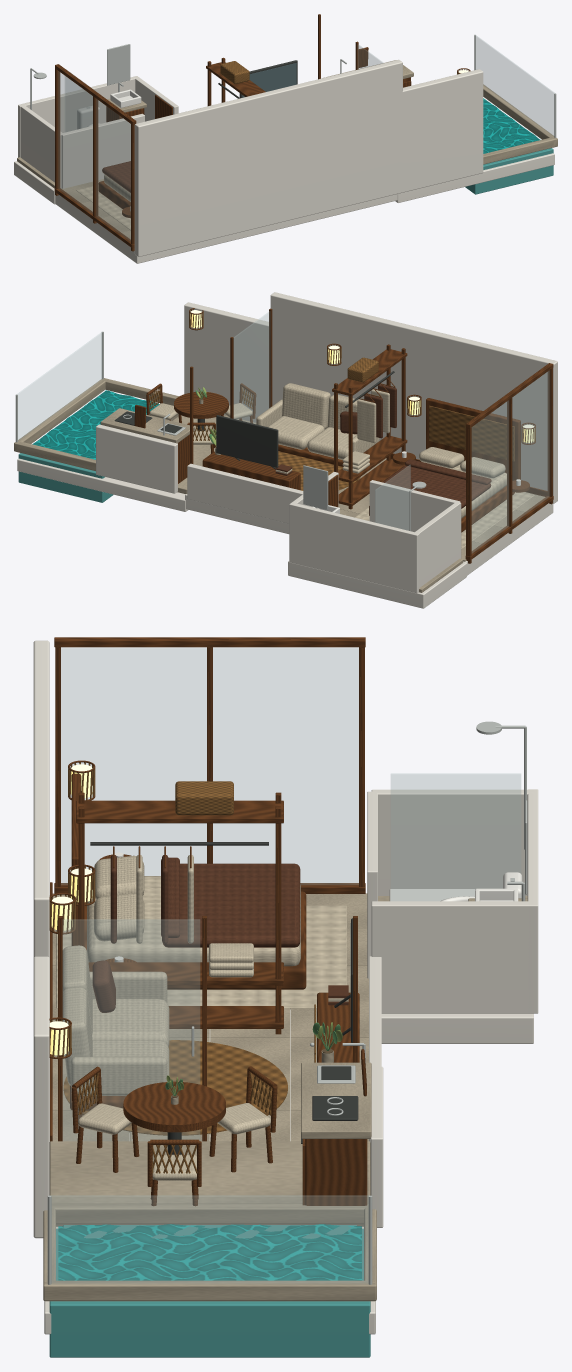
File: sopro-superior-detalhado.glb
3 views of the same model, one above another, from view 1: azimuth 30°, elevation 25°; view 2: azimuth 150°, elevation 25°; view 3: azimuth 270°, elevation 25° (orthographic). The views are drawn at different scales.
Parts seen in each view (by area): view 1: 00 Cutaway architecture | INT / Warm plaster.001, 06 Bathroom fixtures | INT / Warm plaster.001, 00 Cutaway architecture | INT / Clear glass.001, 08 Pool basin and water | INT / Clear glass, 00 Cutaway architecture | INT / Natural timber.001, 08 Pool basin and water | INT / Limestone.002, 08 Pool basin and water | INT / Water surface.001, 08 Pool basin and water | INT / Turquoise pool tile.001, 06 Bathroom fixtures | INT / Clear glass.001, 06 Bathroom fixtures | INT / Brushed steel.001, 04 Media and decorative objects | INT / Screen reflection.00, 01 Bedroom and linen | INT / Natural linen.001 (+9 smaller); view 2: 00 Cutaway architecture | INT / Warm plaster.001, 06 Bathroom fixtures | INT / Warm plaster.001, 00 Cutaway architecture | INT / Clear glass.001, 03 Living furniture | INT / Natural linen.001, 02 Open closet | INT / Natural timber.001, 07 Gourmet veranda | INT / Warm plaster.001, 08 Pool basin and water | INT / Clear glass, 00 Cutaway architecture | INT / Natural timber.001, 05 Glass partition | INT / Clear glass.001, 01 Bedroom and linen | INT / Woven cane.001, 08 Pool basin and water | INT / Water surface.001, 01 Bedroom and linen | INT / Natural linen.001 (+20 smaller); view 3: 00 Cutaway architecture | INT / Clear glass.001, 06 Bathroom fixtures | INT / Warm plaster.001, 08 Pool basin and water | INT / Clear glass, 05 Glass partition | INT / Clear glass.001, 08 Pool basin and water | INT / Turquoise pool tile.001, 07 Gourmet veranda | INT / Limestone.002, 00 Cutaway architecture | INT / Warm plaster.001, 08 Pool basin and water | INT / Water surface.001, 06 Bathroom fixtures | INT / Clear glass.001, 08 Pool basin and water | INT / Limestone.002, 01 Bedroom and linen | INT / Natural linen.001, 07 Gourmet veranda | INT / Natural timber.001 (+21 smaller).
Part boxes in pixels (x1,y1,x2,y2): 00 Cutaway architecture | INT / Warm plaster.001: (14,59,554,263); 06 Bathroom fixtures | INT / Warm plaster.001: (18,76,178,188); 00 Cutaway architecture | INT / Clear glass.001: (58,71,130,241); 08 Pool basin and water | INT / Clear glass: (475,35,554,136); 00 Cutaway architecture | INT / Natural timber.001: (54,64,136,251); 08 Pool basin and water | INT / Limestone.002: (483,84,557,164); 08 Pool basin and water | INT / Water surface.001: (483,98,539,153); 08 Pool basin and water | INT / Turquoise pool tile.001: (465,98,553,194); 06 Bathroom fixtures | INT / Clear glass.001: (65,69,97,131); 06 Bathroom fixtures | INT / Brushed steel.001: (30,44,130,109); 04 Media and decorative objects | INT / Screen reflection.00: (242,63,296,97); 01 Bedroom and linen | INT / Natural linen.001: (76,174,130,230); 00 Cutaway architecture | INT / Warm plaster.001: (17,292,557,608); 06 Bathroom fixtures | INT / Warm plaster.001: (289,472,461,593); 00 Cutaway architecture | INT / Clear glass.001: (472,371,549,552); 03 Living furniture | INT / Natural linen.001: (256,383,379,459); 02 Open closet | INT / Natural timber.001: (332,344,407,509); 07 Gourmet veranda | INT / Warm plaster.001: (96,424,177,493); 08 Pool basin and water | INT / Clear glass: (17,332,102,440); 00 Cutaway architecture | INT / Natural timber.001: (390,363,553,563); 05 Glass partition | INT / Clear glass.001: (234,311,269,423); 01 Bedroom and linen | INT / Woven cane.001: (407,395,535,461); 08 Pool basin and water | INT / Water surface.001: (32,390,159,459); 01 Bedroom and linen | INT / Natural linen.001: (355,447,534,548); 00 Cutaway architecture | INT / Clear glass.001: (61,648,358,884); 06 Bathroom fixtures | INT / Warm plaster.001: (367,789,538,1013); 08 Pool basin and water | INT / Clear glass: (50,1195,369,1283); 05 Glass partition | INT / Clear glass.001: (63,919,199,1140); 08 Pool basin and water | INT / Turquoise pool tile.001: (49,1225,370,1357); 07 Gourmet veranda | INT / Limestone.002: (49,1062,371,1226); 00 Cutaway architecture | INT / Warm plaster.001: (33,640,533,1334); 08 Pool basin and water | INT / Water surface.001: (58,1224,361,1280); 06 Bathroom fixtures | INT / Clear glass.001: (391,773,520,900); 08 Pool basin and water | INT / Limestone.002: (43,1203,376,1301); 01 Bedroom and linen | INT / Natural linen.001: (56,855,346,1009); 07 Gourmet veranda | INT / Natural timber.001: (49,1017,367,1206).
Bounding box in the file's own units: 9.14 × 3.21 × 4.72.
17 materials, 6 textured.
